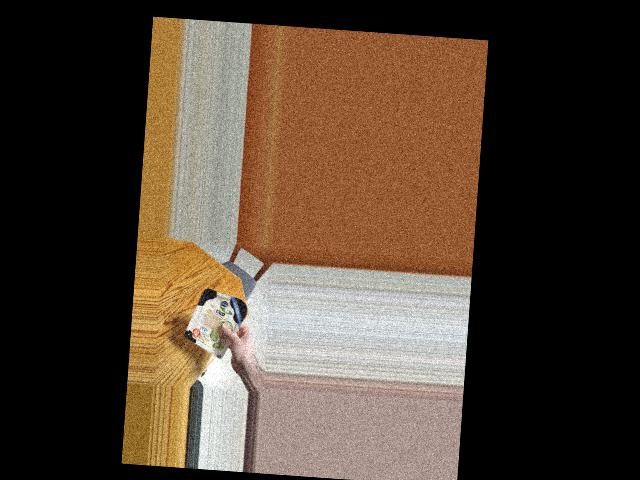cheese: (186, 284, 246, 349)
